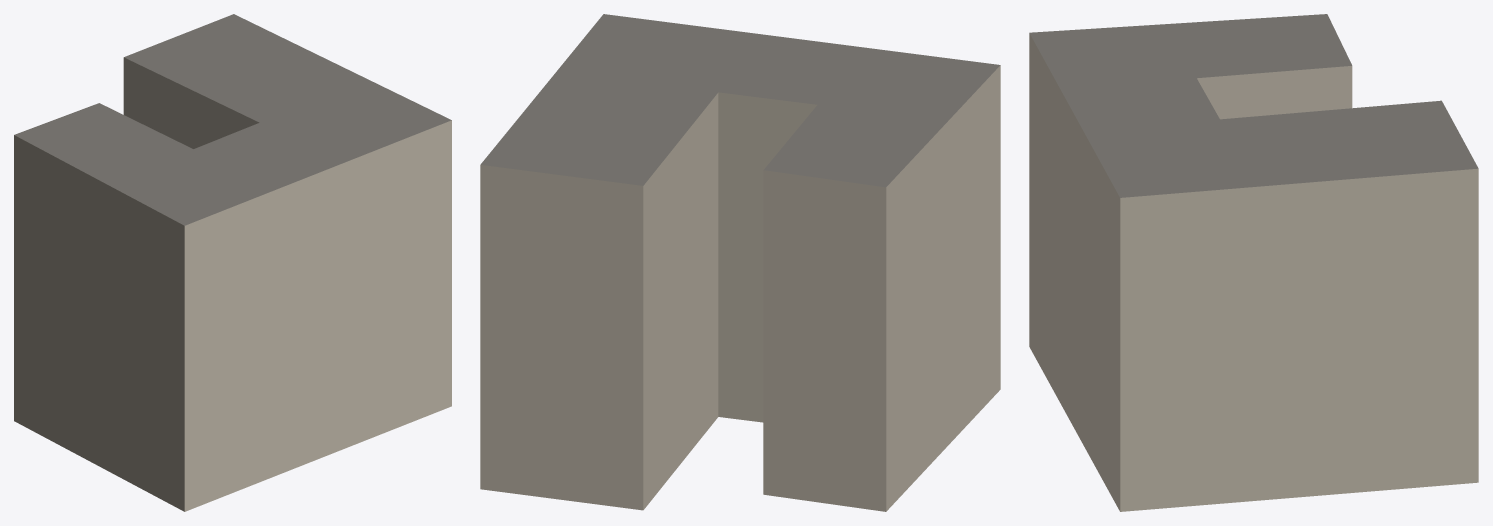
3 views of the same model, side by side, from view 1: azimuth 30°, elevation 25°; view 2: azimuth 150°, elevation 25°; view 3: azimuth 270°, elevation 25° (orthographic). The views are drawn at different scales.
Parts seen in each view (by area): view 1: HP-w505643616; view 2: HP-w505643616; view 3: HP-w505643616.
Boxes of the visible parts, x1=… form: HP-w505643616: x1=14, y1=14, x2=451, y2=511; HP-w505643616: x1=480, y1=14, x2=1000, y2=511; HP-w505643616: x1=1029, y1=14, x2=1478, y2=511.
Bounding box in the file's own units: 18.85 × 15 × 19.46.
